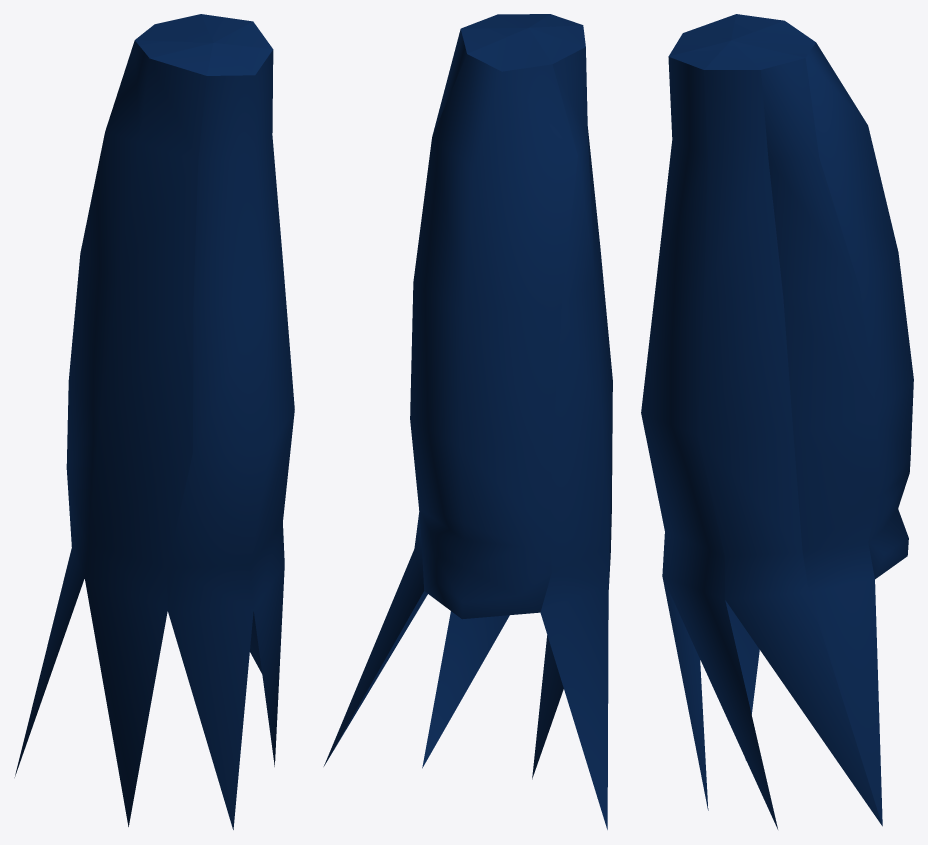
The model's file is left_leg.glb.
3 renders of one model, left to right at view 1: azimuth 30°, elevation 25°; view 2: azimuth 150°, elevation 25°; view 3: azimuth 270°, elevation 25°, orthographic. The views are drawn at different scales.
Parts seen in each view (by area): view 1: trousers-navy_LEFT_LEG; view 2: trousers-navy_LEFT_LEG; view 3: trousers-navy_LEFT_LEG.
Part boxes in pixels (x1,y1,x2,y2): trousers-navy_LEFT_LEG: (14, 14, 294, 829); trousers-navy_LEFT_LEG: (323, 14, 612, 829); trousers-navy_LEFT_LEG: (641, 14, 913, 829).
Size of the model in its own units: 0.2272 by 0.6196 by 0.1996.
1 material, 1 textured.
